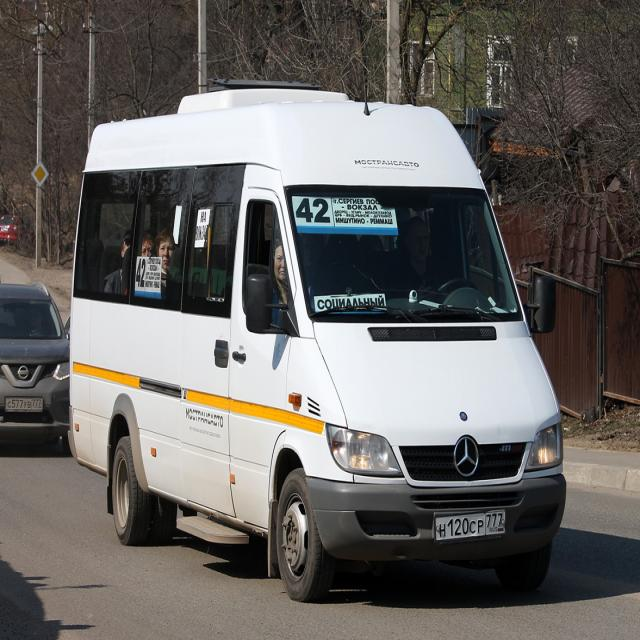number-of-bus: (295, 193, 333, 227), (137, 258, 148, 290)
